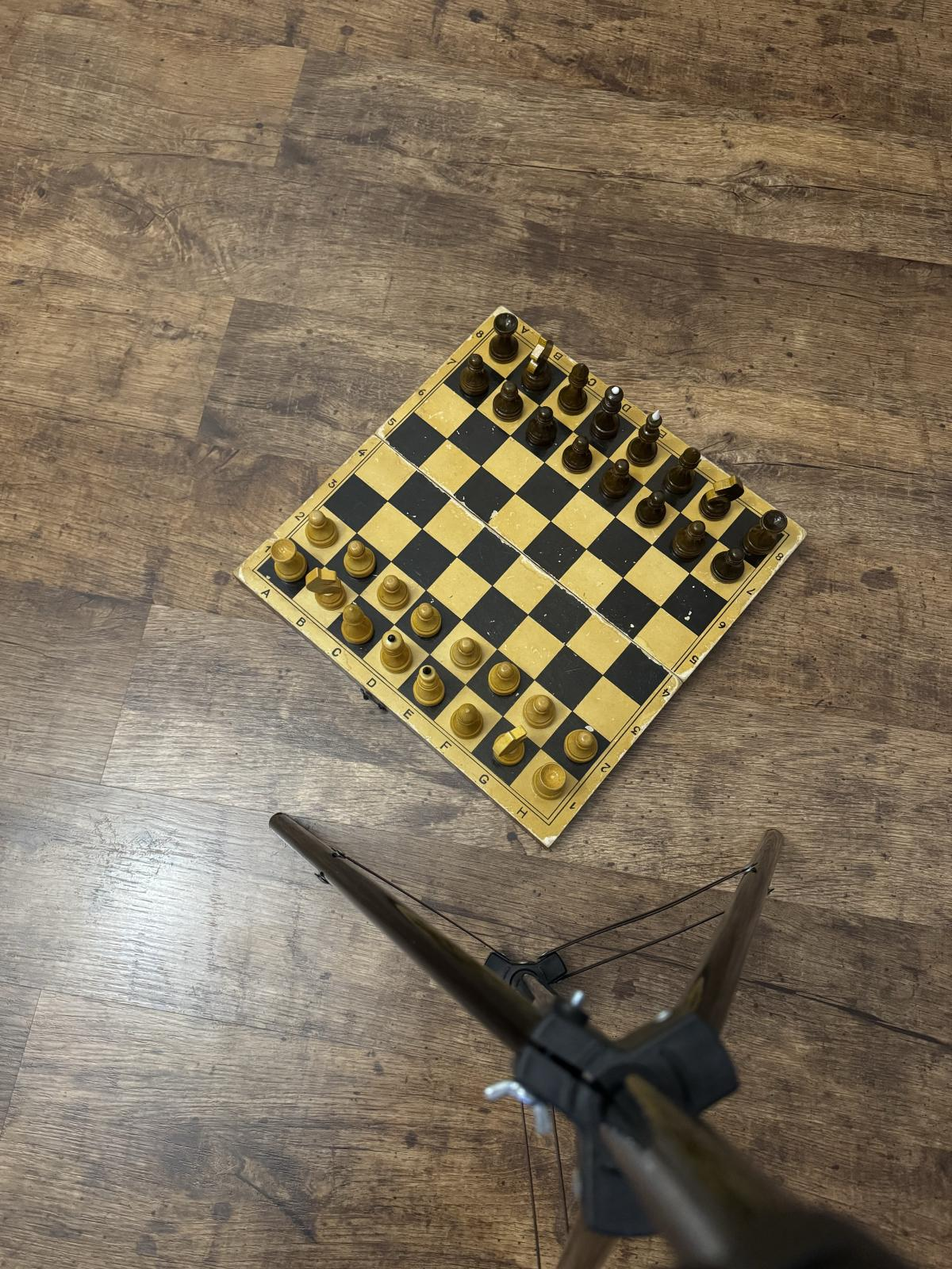Chess-Board: (257, 325, 784, 819)
